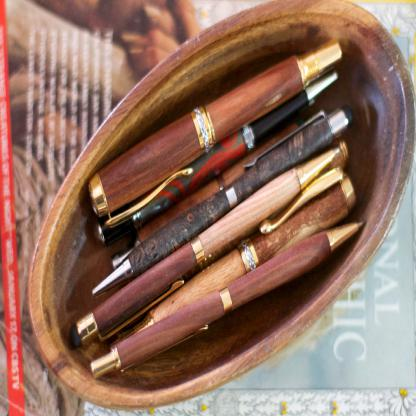Pen: (69, 36, 367, 382)
